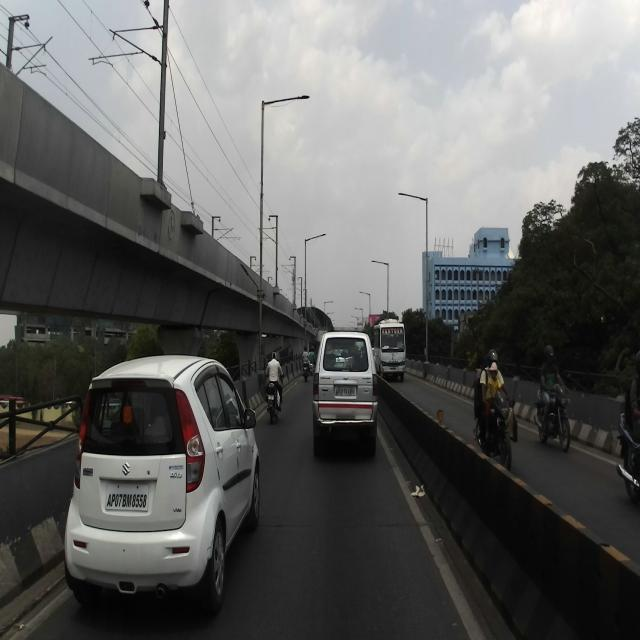bus: (374, 316, 406, 383)
car: (63, 355, 260, 615), (310, 330, 378, 456)
motorcycle: (472, 387, 518, 471), (533, 386, 571, 453)
